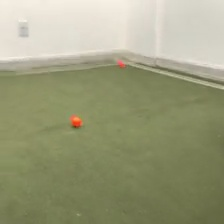ball: (71, 114, 83, 127), (117, 59, 125, 68)
